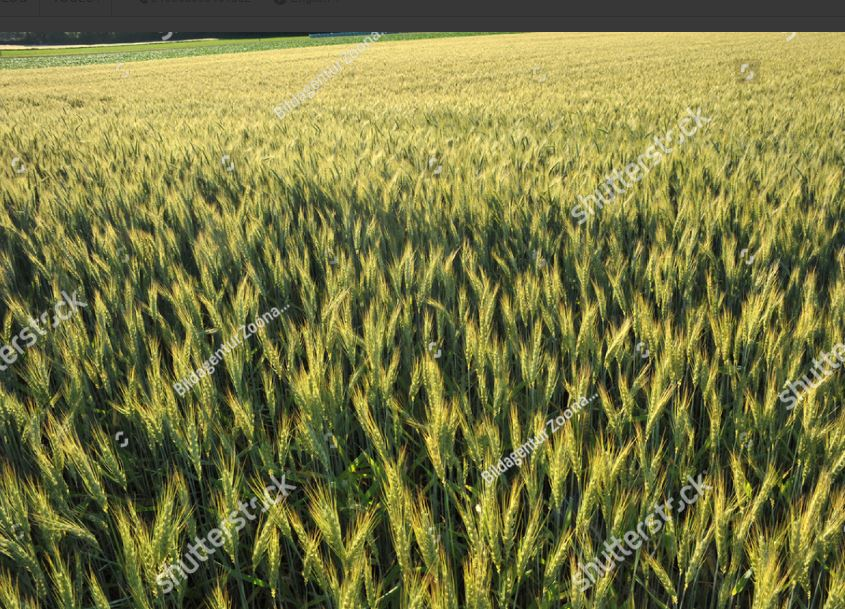Wheat: (116, 306, 705, 568)
